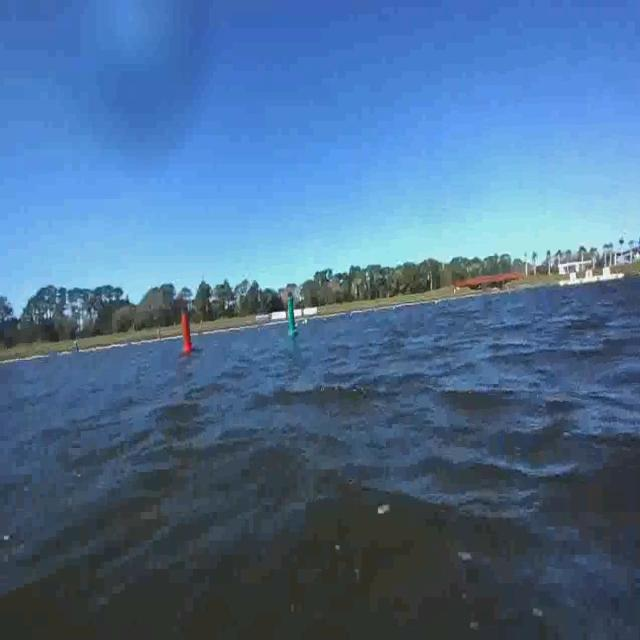green-column-buoy: (279, 285, 303, 348)
red-column-buoy: (174, 301, 196, 346)
